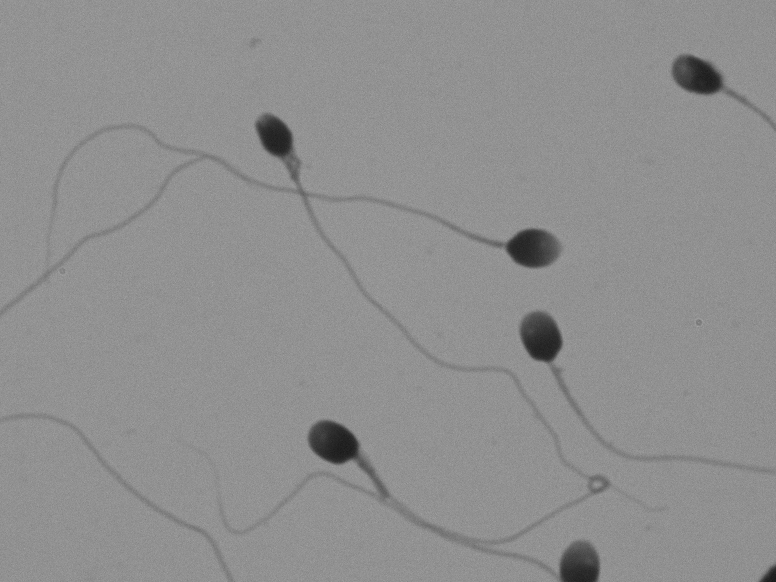Abnormal: (228, 70, 441, 398), (286, 401, 451, 529), (653, 32, 758, 150)
Normal: (511, 292, 767, 496), (318, 164, 573, 286)
